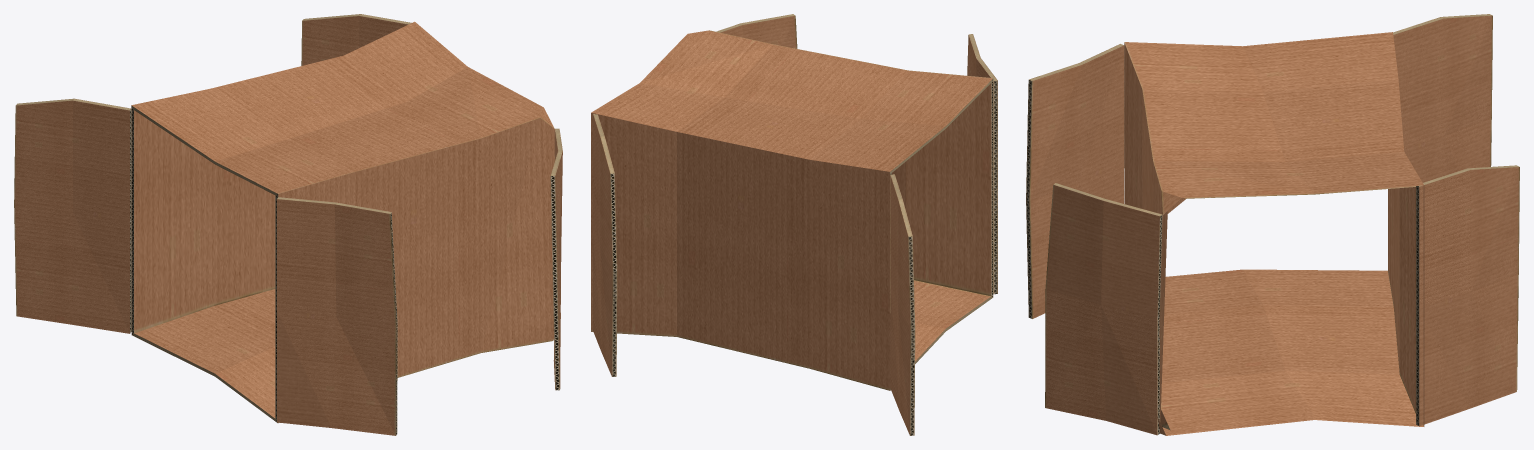
The model's file is BoxOpen.FBX.
3 views of the same model, side by side, from view 1: azimuth 30°, elevation 25°; view 2: azimuth 150°, elevation 25°; view 3: azimuth 270°, elevation 25° (orthographic). The views are drawn at different scales.
Parts seen in each view (by area): view 1: BoxOpen; view 2: BoxOpen; view 3: BoxOpen.
Boxes of the visible parts, <box> form: BoxOpen: <box>14,14,562,435</box>; BoxOpen: <box>591,14,997,435</box>; BoxOpen: <box>1026,14,1519,435</box>.
Size of the model in its own units: 3 by 1.69 by 3.13.
